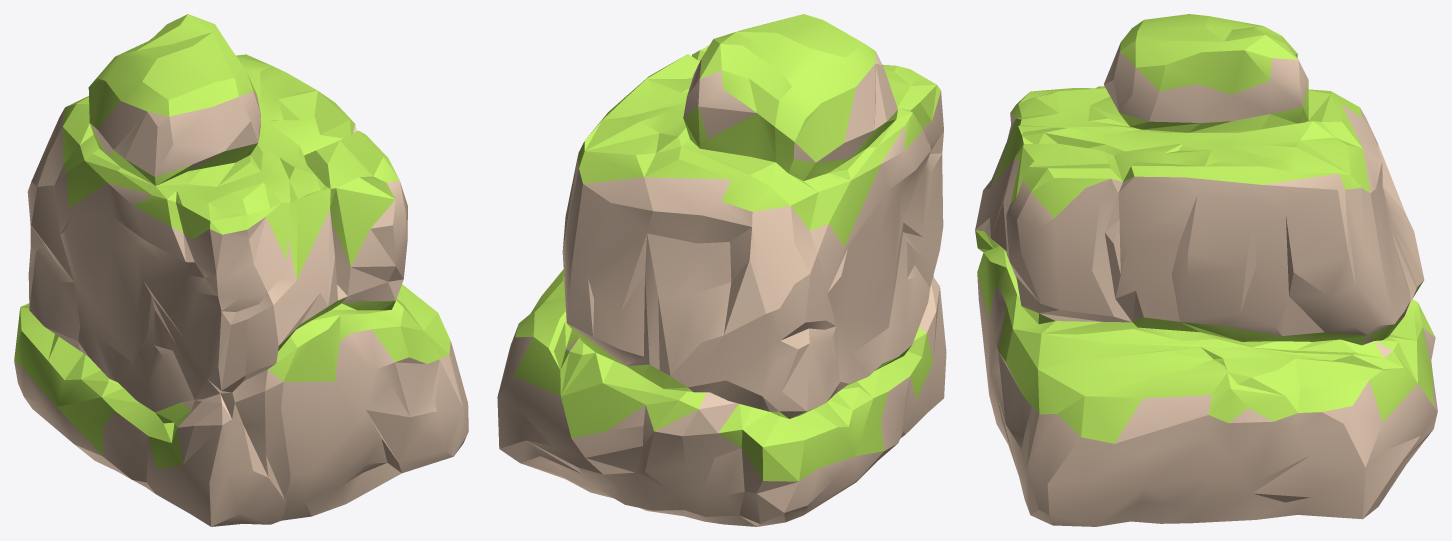
Rendered from rock_1.glb.
3 views of the same model, side by side, from view 1: azimuth 30°, elevation 25°; view 2: azimuth 150°, elevation 25°; view 3: azimuth 270°, elevation 25° (orthographic). The views are drawn at different scales.
Parts seen in each view (by area): view 1: Rock1.003; view 2: Rock1.003; view 3: Rock1.003.
Boxes of the visible parts, x1,y1,x2,y2 form: Rock1.003: [14, 14, 468, 526]; Rock1.003: [497, 14, 946, 526]; Rock1.003: [975, 14, 1437, 526].
Bounding box in the file's own units: 1.25 × 1.62 × 1.59.
Materials: 1 (1 with a texture image).
